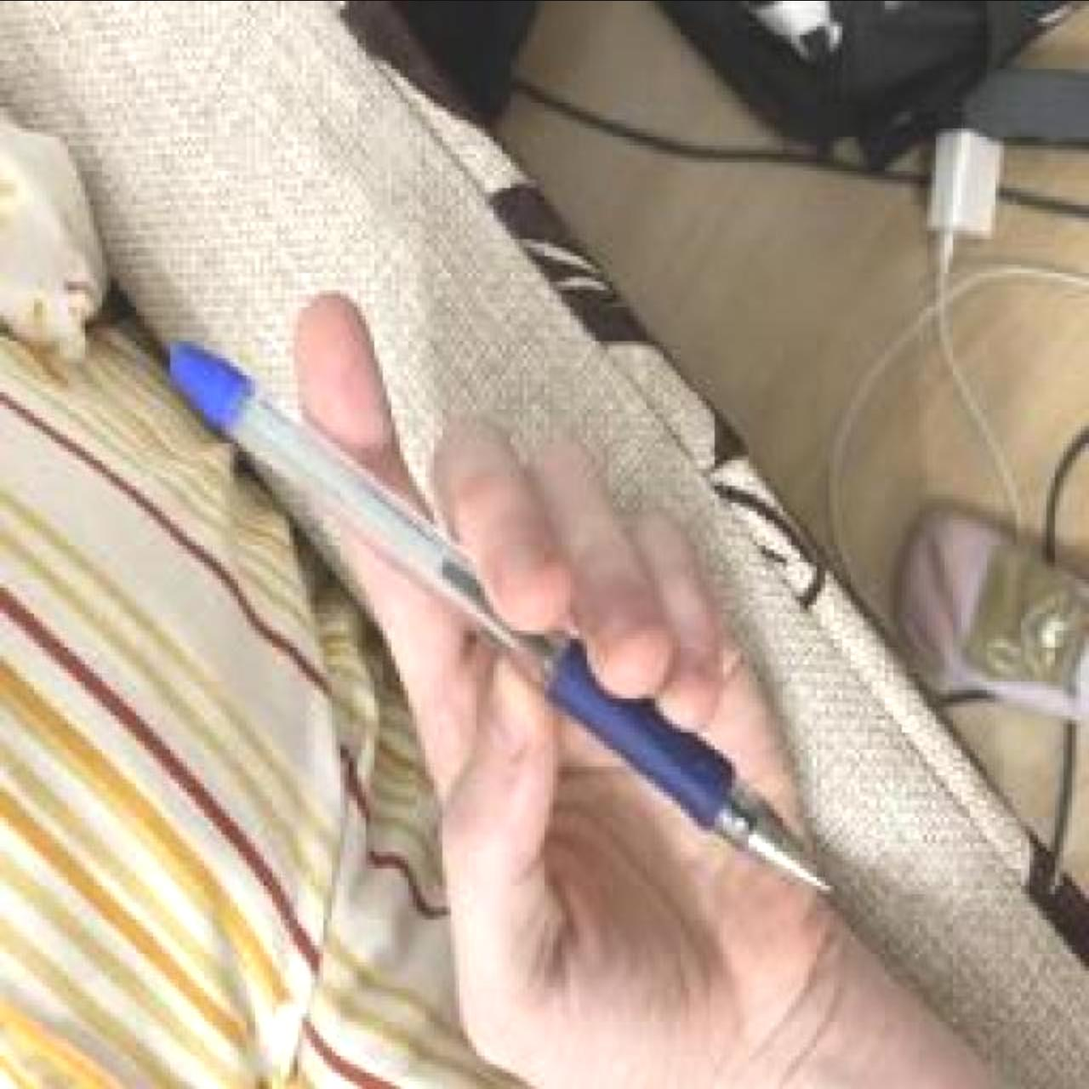pen: (167, 340, 835, 893)
